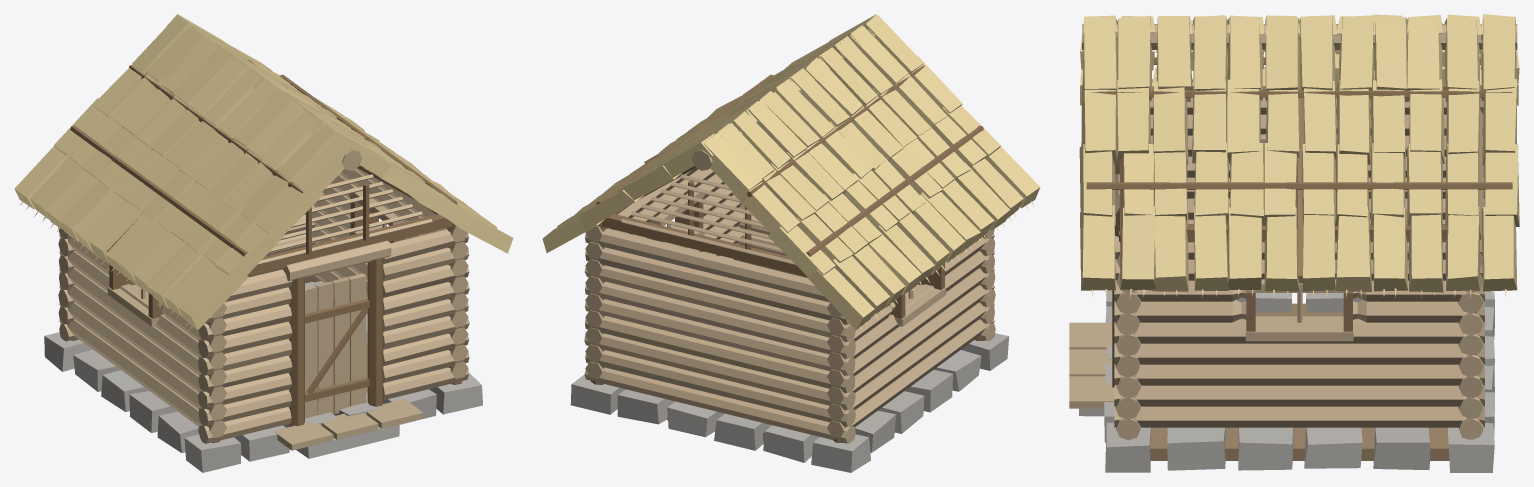
File: building_storehouse_complete.glb
3 renders of one model, left to right at view 1: azimuth 30°, elevation 25°; view 2: azimuth 150°, elevation 25°; view 3: azimuth 270°, elevation 25°, orthographic. The views are drawn at different scales.
Parts seen in each view (by area): view 1: building_storehouse_complete; view 2: building_storehouse_complete; view 3: building_storehouse_complete.
Boxes of the visible parts, box(x1,y1,x2,y2) form: building_storehouse_complete: box(14, 14, 513, 472); building_storehouse_complete: box(542, 14, 1040, 472); building_storehouse_complete: box(1069, 14, 1519, 472).
Size of the model in its own units: 3.96 by 3.56 by 3.89.
